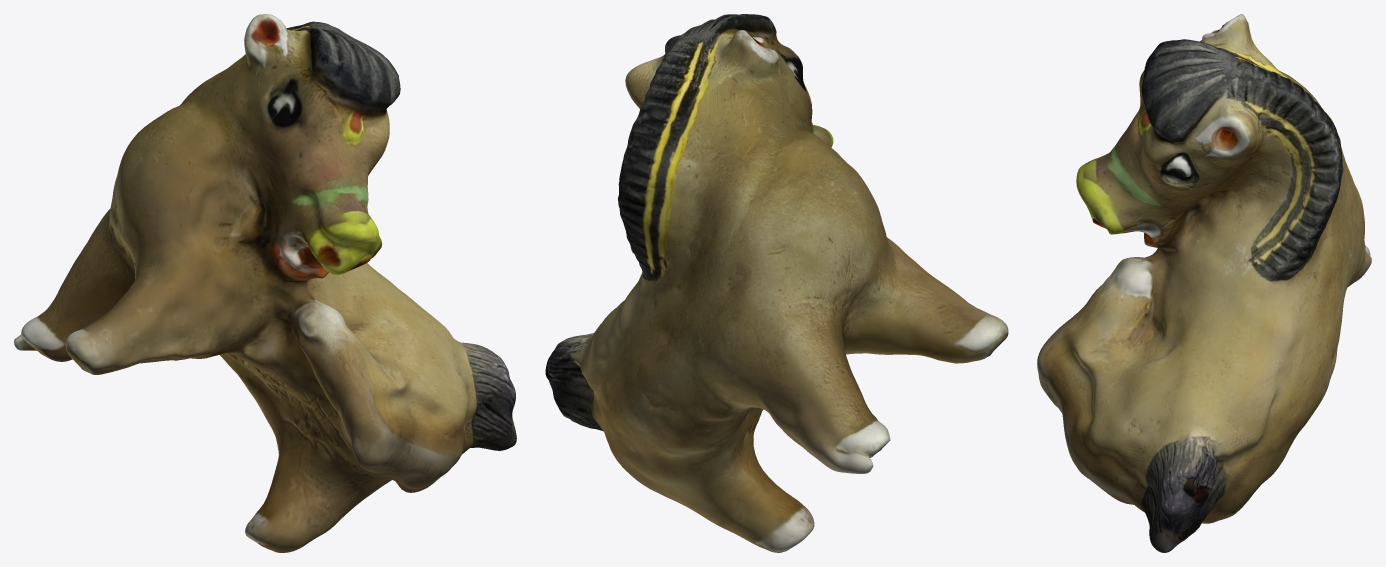
3 renders of one model, left to right at view 1: azimuth 30°, elevation 25°; view 2: azimuth 150°, elevation 25°; view 3: azimuth 270°, elevation 25°, orthographic. The views are drawn at different scales.
Bounding box in the file's own units: 0.2594 × 0.2902 × 0.1756.
1 material, 1 textured.
